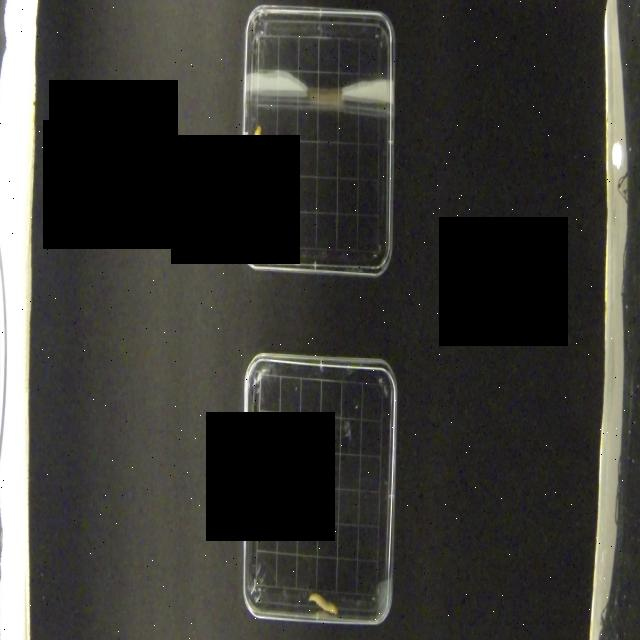larva: (247, 122, 264, 198), (308, 591, 338, 616)
